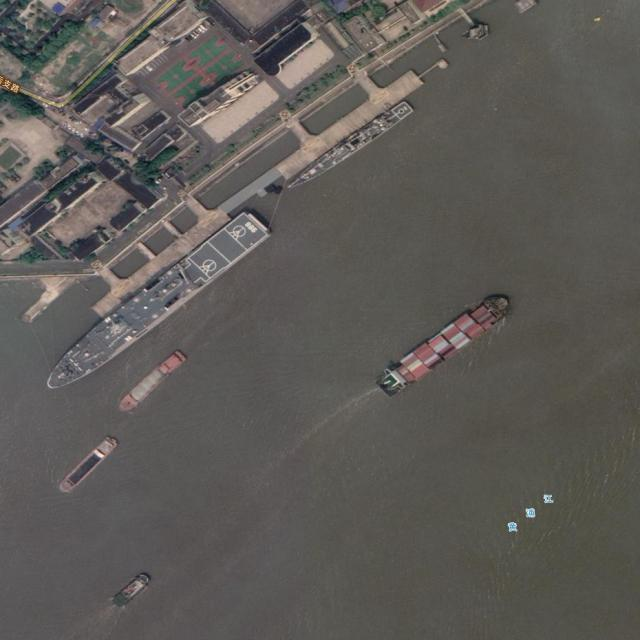Cargo: (115, 351, 188, 417), (54, 433, 120, 499)
Container Ship: (374, 288, 516, 401)
Frigate: (284, 98, 415, 198)
Landing: (40, 202, 271, 402)
Other Ship: (110, 570, 153, 609)
